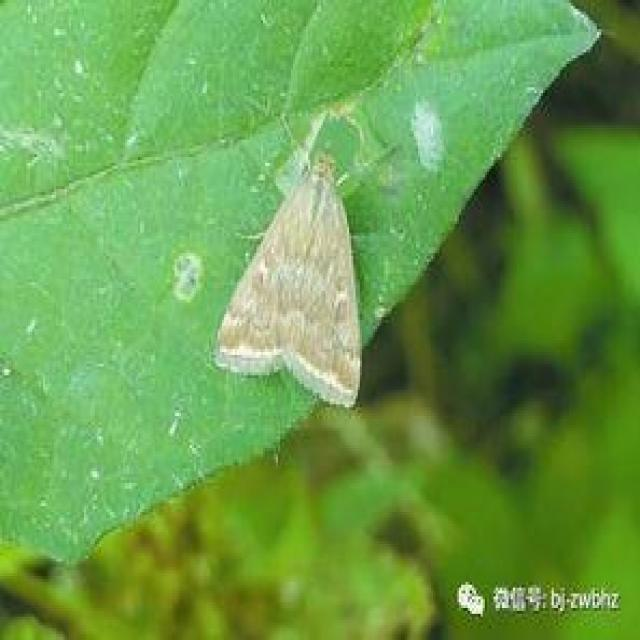BeetArmyWorm-Adult-: (221, 99, 390, 397)
